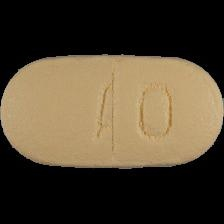53808-0646: (0, 0, 224, 224)
